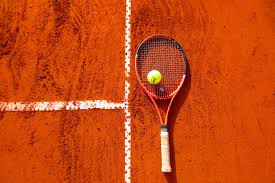tennis_ball: (146, 68, 161, 85)
